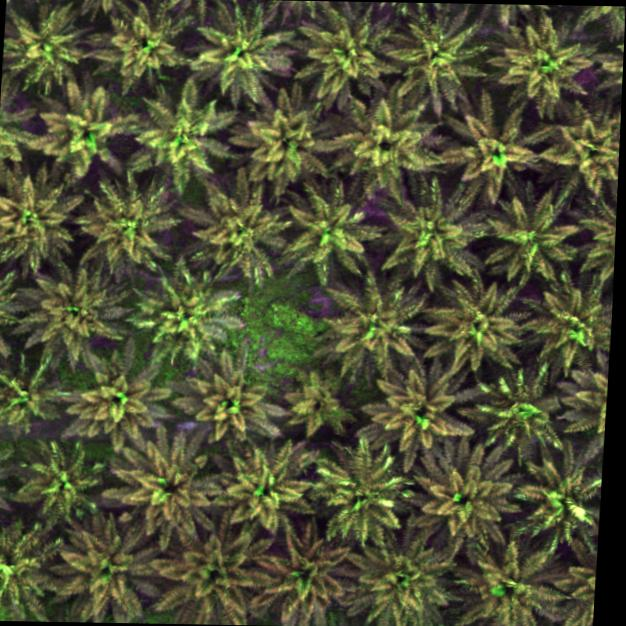oilpalm: (392, 443, 523, 564), (123, 76, 245, 197), (326, 86, 448, 202), (439, 88, 551, 214), (409, 267, 525, 388), (27, 77, 142, 198), (353, 361, 472, 477), (211, 432, 329, 548), (179, 0, 302, 109), (51, 516, 169, 624), (117, 433, 225, 550), (151, 524, 272, 626), (179, 175, 294, 282), (127, 252, 239, 361), (463, 364, 571, 474), (224, 91, 341, 192), (168, 352, 282, 455), (23, 262, 139, 362), (275, 180, 384, 286), (483, 187, 586, 298), (311, 442, 414, 552), (244, 525, 356, 626), (440, 536, 564, 626), (291, 1, 393, 110), (382, 185, 485, 292), (516, 272, 614, 383), (507, 446, 604, 558), (79, 172, 179, 280), (383, 11, 492, 110), (0, 0, 109, 99), (313, 271, 418, 371), (343, 531, 452, 626), (62, 352, 163, 448), (97, 0, 199, 92), (493, 20, 589, 116), (538, 100, 622, 206), (0, 172, 84, 276), (15, 431, 102, 529), (273, 356, 364, 449), (0, 516, 66, 622), (0, 347, 64, 437)
